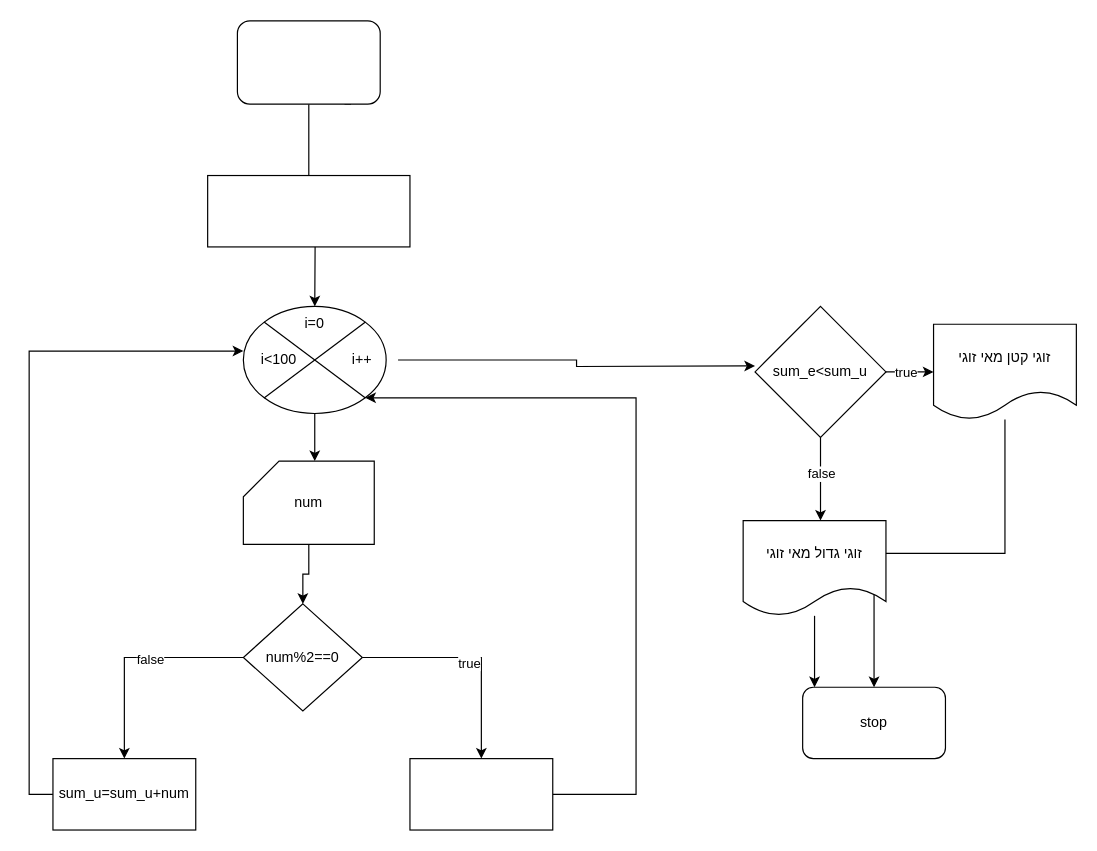
The diagram is 1097 pixels wide and 851 high, and some of its shapes have lost their labels. Here are the shapes that lost their labels. From the top down, the centre of each, then its label:
At [308,62]: "start".
At [308,210]: "sum_e=0 sum_u=0".
At [481,793]: "sum_e=sum_e+num".
